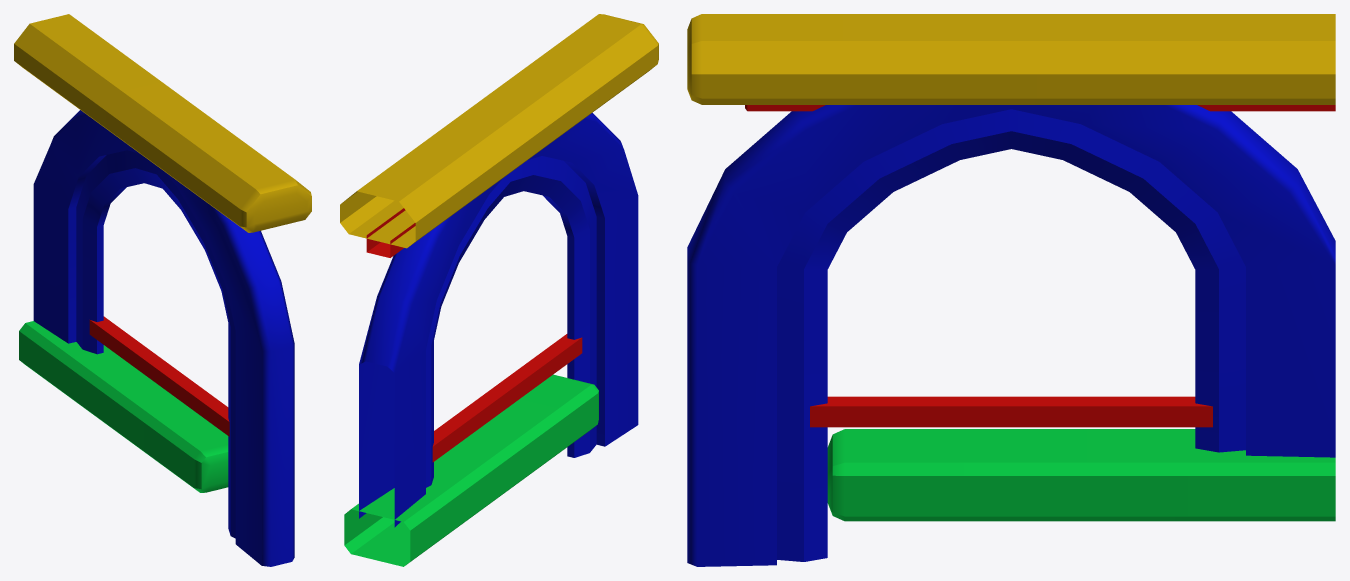
File: SM_BridgeBarrier_End.fbx
3 renders of one model, left to right at view 1: azimuth 30°, elevation 25°; view 2: azimuth 150°, elevation 25°; view 3: azimuth 270°, elevation 25°, orthographic. The views are drawn at different scales.
Visible parts, largest first — view 1: rembarde_end; view 2: rembarde_end; view 3: rembarde_end.
Part boxes in pixels (box(x1,y1,x2,y2)): rembarde_end: box(14, 14, 311, 566); rembarde_end: box(340, 14, 658, 566); rembarde_end: box(687, 14, 1335, 566).
Size of the model in its own units: 17.61 by 89.79 by 100.
